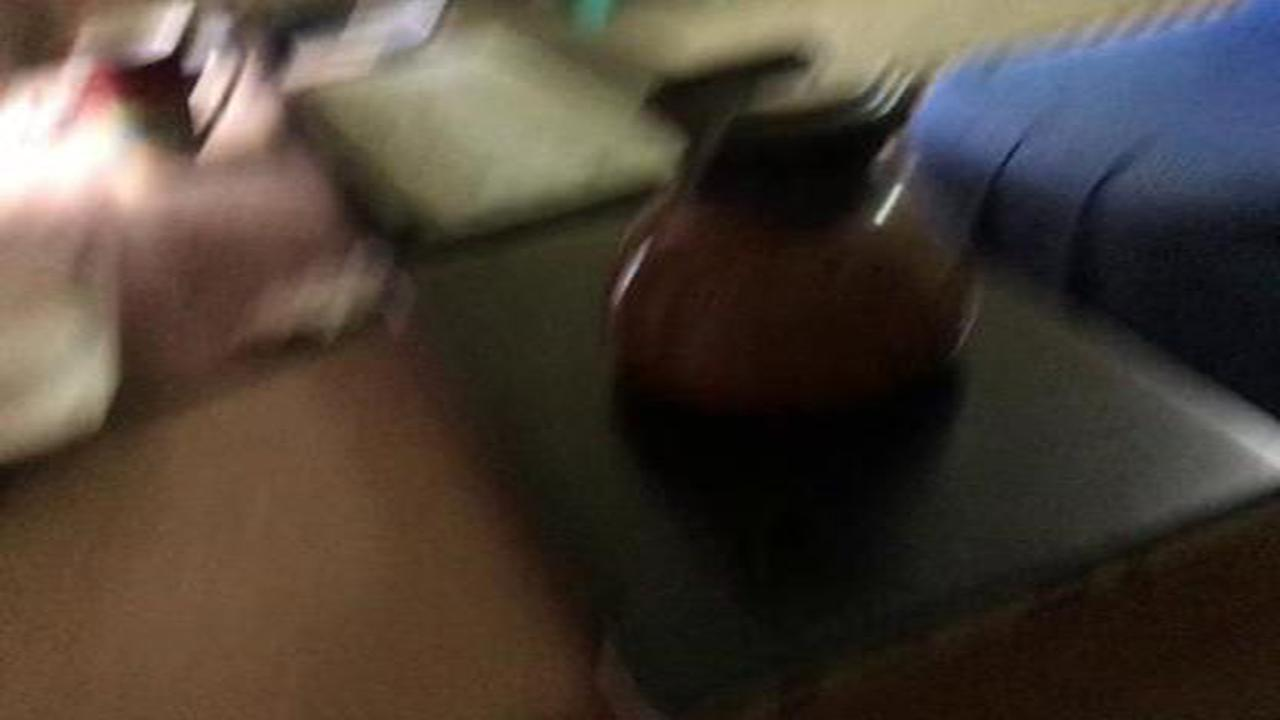insulator_pin: (561, 28, 1013, 451)
